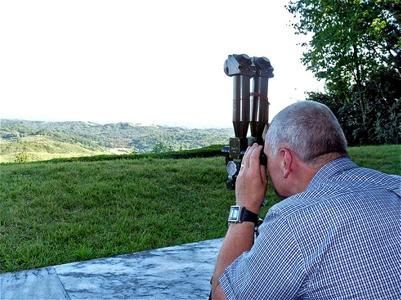person: (211, 101, 401, 300)
